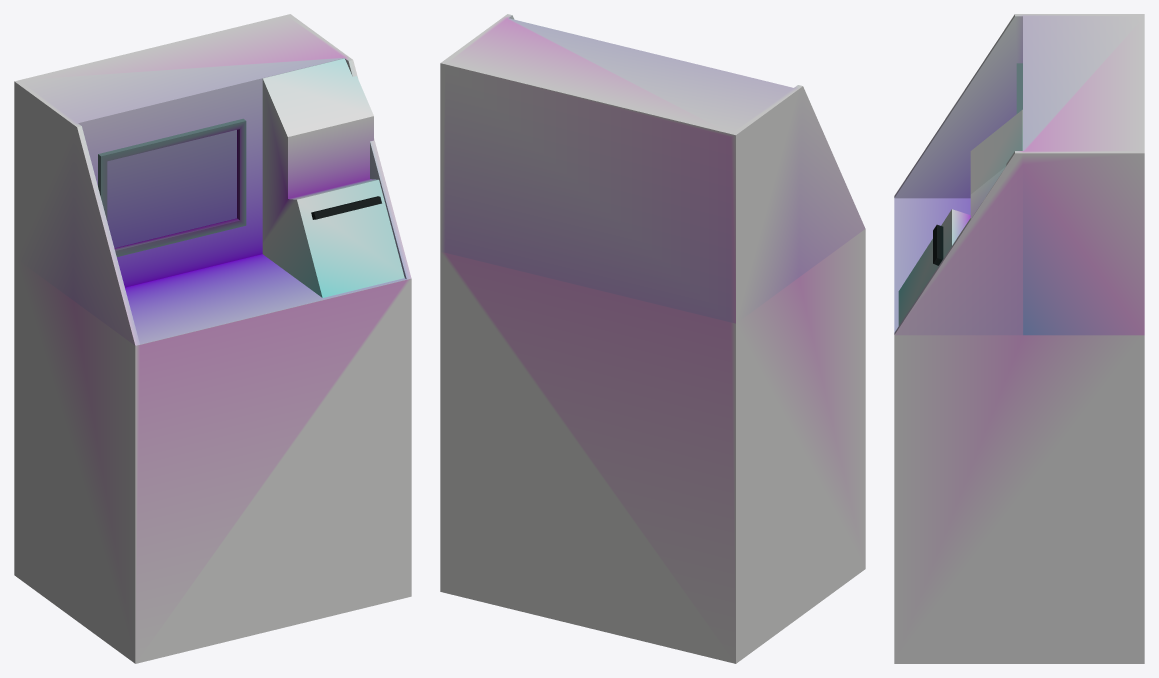
3 views of the same model, side by side, from view 1: azimuth 30°, elevation 25°; view 2: azimuth 150°, elevation 25°; view 3: azimuth 270°, elevation 25° (orthographic). The views are drawn at different scales.
Visible parts, largest first — view 1: base, housing, screen, display_rim, overhanging_lip; view 2: base; view 3: base, housing, overhanging_lip.
Boxes of the visible parts, box(x1,y1,x2,y2) form: base: box(14, 14, 411, 663); housing: box(262, 58, 404, 297); screen: box(107, 130, 236, 247); display_rim: box(98, 118, 246, 256); overhanging_lip: box(311, 196, 381, 219); base: box(440, 14, 865, 663); base: box(894, 14, 1144, 663); housing: box(898, 109, 1022, 325); overhanging_lip: box(933, 224, 943, 265).
Size of the model in its own units: 0.8776 by 1.5 by 0.6668.
